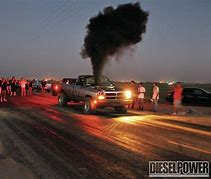smoke: (81, 1, 148, 81)
